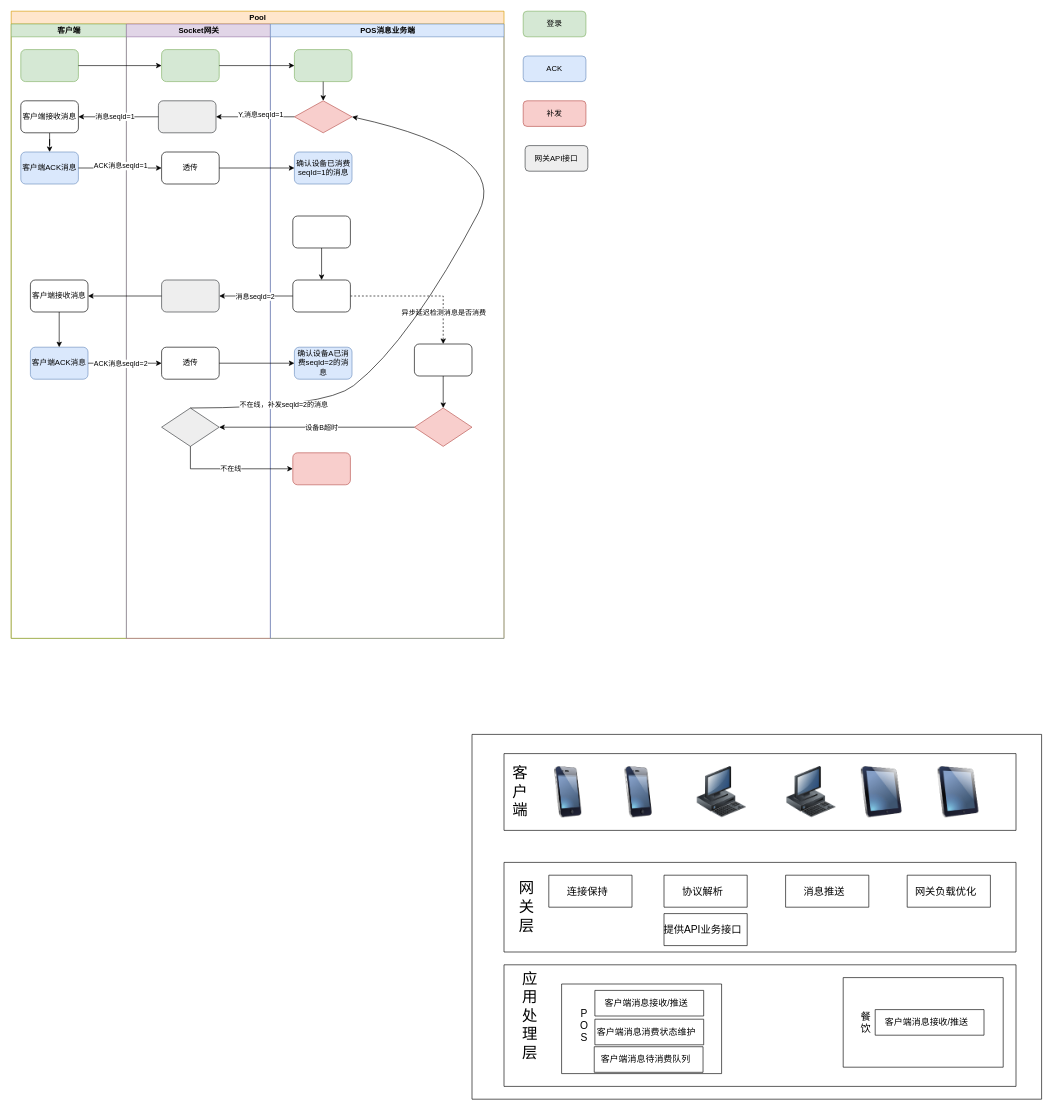
This 1053x1110 diagram has some shape labels left out. Each missing label, with the centre of its shape:
seqId=2消息消费进度检测: (x=443, y=359)
保存所有待推送的设备seqId=2的消息未消费: (x=321, y=295)
处理客户端登陆请求: (x=323, y=65)
存在补发数据: (x=323, y=116)
客户端登陆: (x=49, y=65)
批量推送: (x=321, y=231)
根据deviceId推送: (x=187, y=116)
根据标签广播推送: (x=190, y=295)
缓存客户端信息: (x=190, y=65)
设备B,seqId=2消息超时: (x=443, y=426)
设备B不补推消息，等待设备B上线补推: (x=321, y=468)
设备B在线?: (x=190, y=426)
